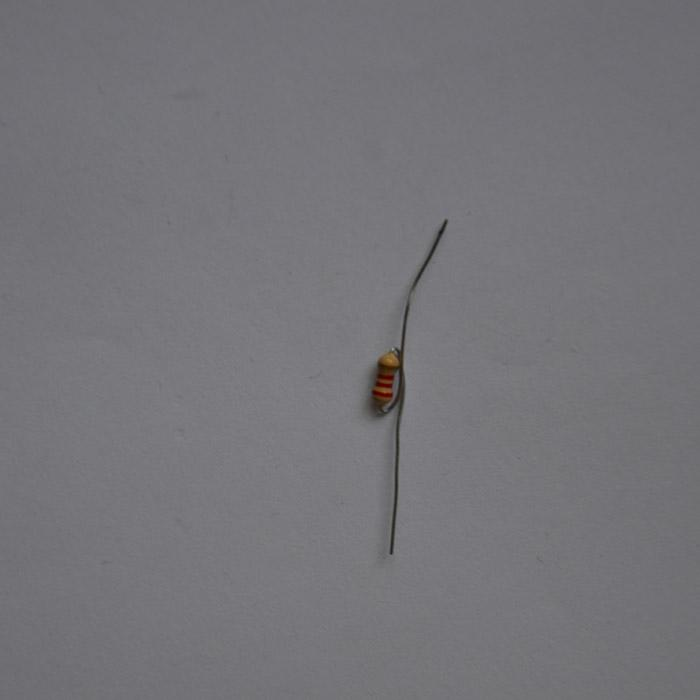resistor: (371, 349, 400, 404)
